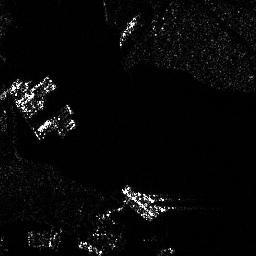ship: (117, 16, 141, 46)
